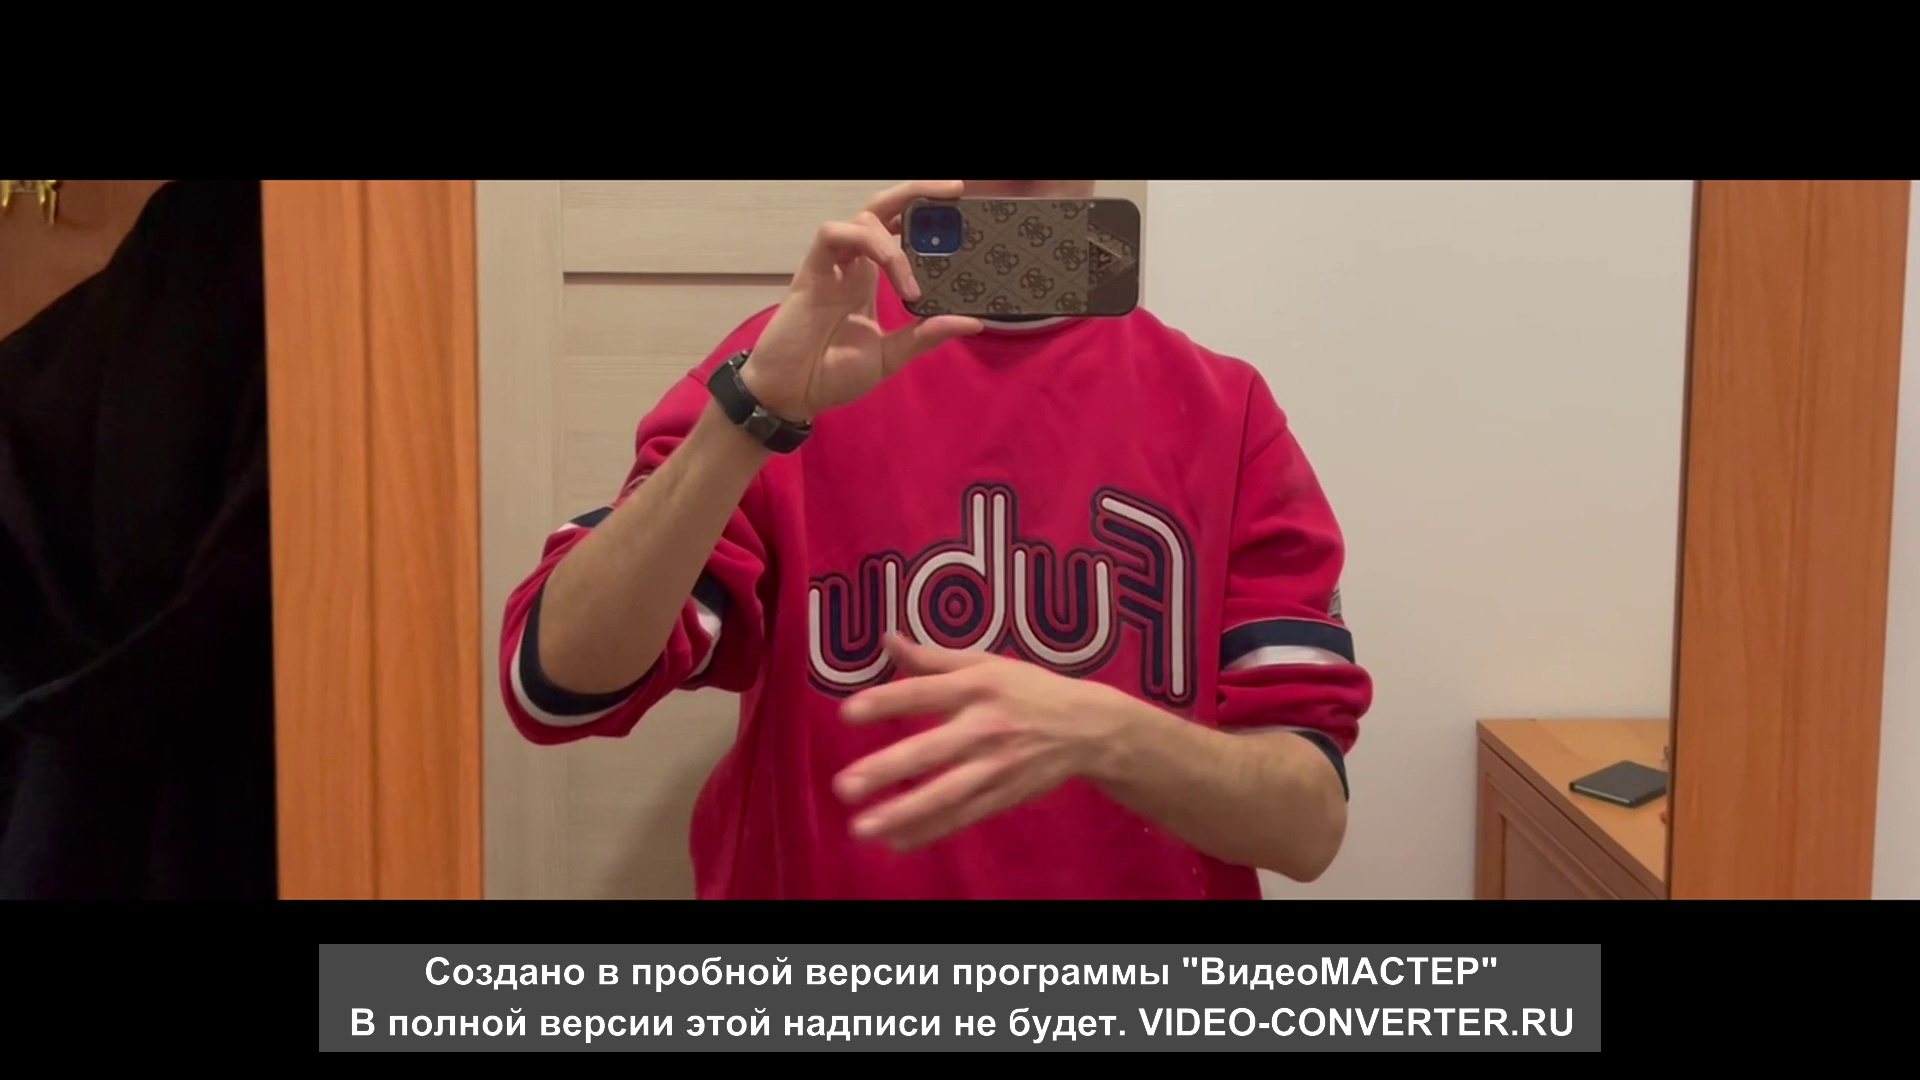Кисть: (836, 636, 1097, 852)
